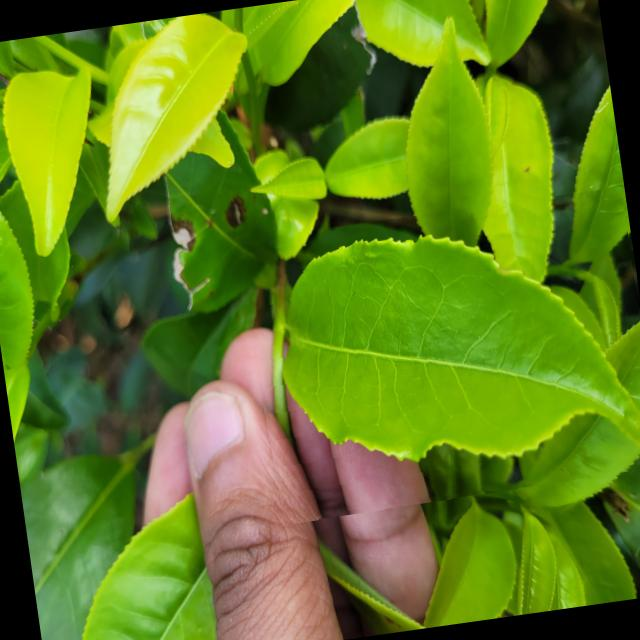Category B 2-4 days: (234, 186, 640, 526)
